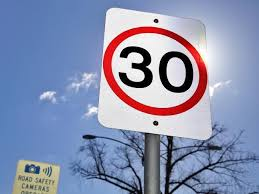sp30: (111, 24, 213, 114)
